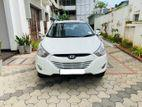car: (37, 20, 108, 77)
